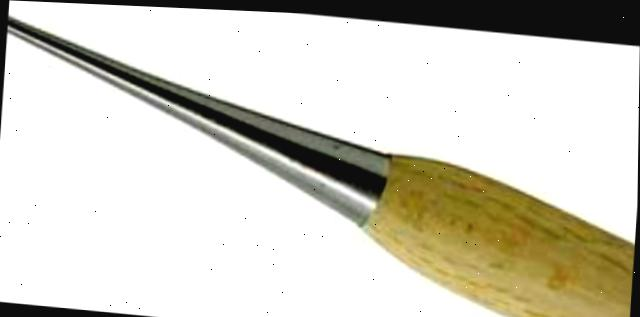ice pick: (0, 10, 640, 317)
